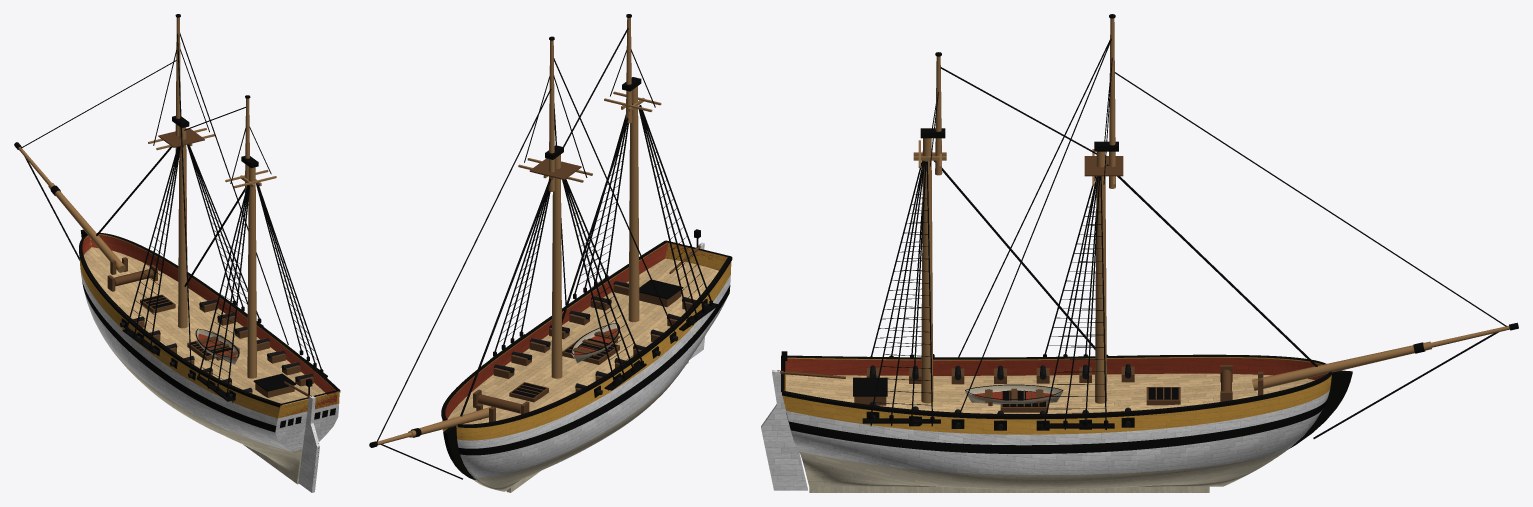
Rendered from brigantine.glb.
The picture shows the model from 3 angles, left to right: view 1: azimuth 30°, elevation 25°; view 2: azimuth 150°, elevation 25°; view 3: azimuth 270°, elevation 25°; orthographic projection. The views are drawn at different scales.
Visible parts, largest first — view 1: hull; view 2: hull; view 3: hull.
Part boxes in pixels (x1=…): hull: x1=14, y1=14, x2=340, y2=492; hull: x1=369, y1=14, x2=732, y2=492; hull: x1=761, y1=14, x2=1518, y2=492.
Bounding box in the file's own units: 6.53 × 21.3 × 30.71.
Materials: 9 (5 with a texture image).
